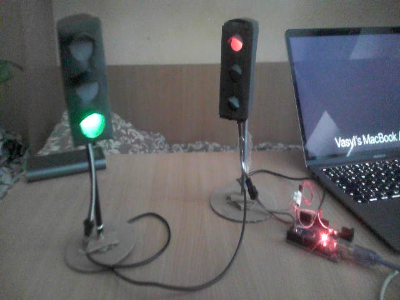trafficlight_green: (67, 25, 109, 142)
trafficlight_red: (219, 23, 253, 115)
